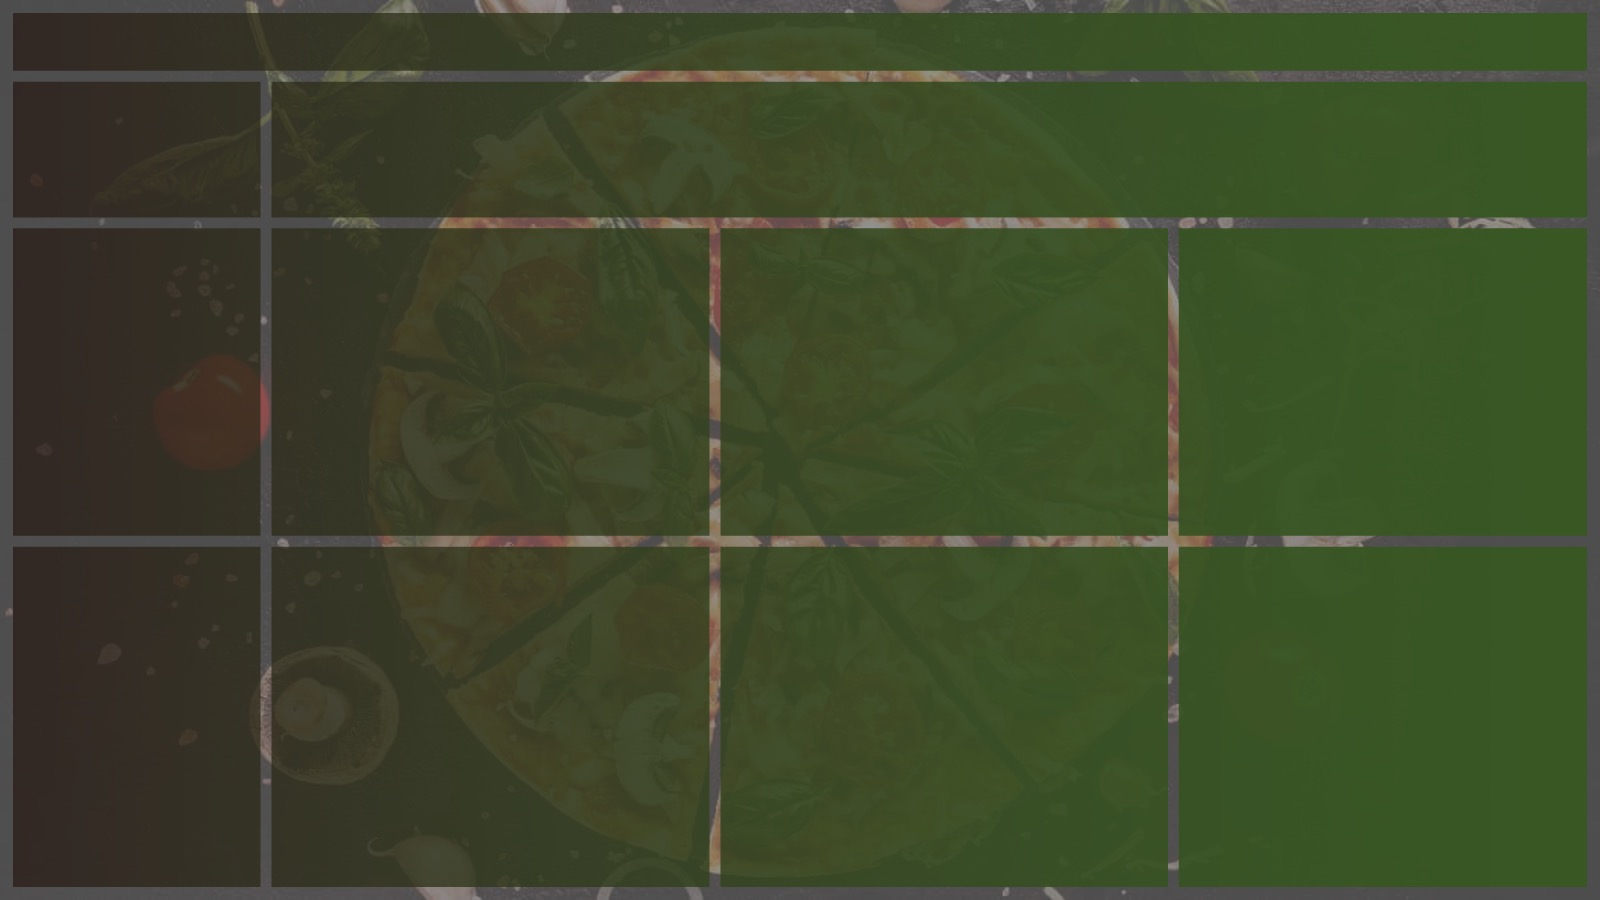

What the dashboard file says about the page in this screenshot:
{"tool":"tableau","page":{"name":"Second Page","canvas":[1600,900],"ordinal":1},"visuals":[{"type":"image","param":"/Users/minhle/Documents/Pizza Sales Project/Background Image/Slide2.jpeg","box":[8,8,1584,884]},{"type":"filter","title":"Top 5 Pizzas by Revenue","param":"[federated.0somklw0qe6syh1g5aqz908a7uoe].[none:order_date:qk]","box":[1317,25,245,55]},{"type":"filter","title":"Top 5 Pizzas by Revenue","param":"[federated.0somklw0qe6syh1g5aqz908a7uoe].[none:pizza_category:nk]","box":[1135,26,181,56]},{"type":"text","box":[678,30,246,31]},{"type":"image","param":"/Users/minhle/Documents/Pizza Sales Project/Pizza Sales Images/Denison_logo_athl","box":[45,33,44,40]},{"type":"image","param":"/Users/minhle/Documents/Pizza Sales Project/Pizza Sales Images/pizza-slice.png","box":[645,33,32,30]},{"type":"text","box":[92,37,110,34]},{"type":"text","box":[699,55,201,30]},{"type":"dashboard-object","box":[46,101,219,52]},{"type":"image","param":"/Users/minhle/Documents/Pizza Sales Project/Pizza Sales Images/profit-growth.png","box":[393,101,39,33]},{"type":"image","param":"/Users/minhle/Documents/Pizza Sales Project/Pizza Sales Images/delivery-man.png","box":[1151,101,49,37]},{"type":"image","param":"/Users/minhle/Documents/Pizza Sales Project/Pizza Sales Images/shipping-box.png","box":[650,103,36,33]},{"type":"image","param":"/Users/minhle/Documents/Pizza Sales Project/Pizza Sales Images/order (1).png","box":[1404,104,54,33]},{"type":"image","param":"/Users/minhle/Documents/Pizza Sales Project/Pizza Sales Images/order-delivery.pn","box":[903,105,35,30]},{"type":"worksheet","title":"KPI Banner","mark":"Automatic","box":[284,138,1275,78]},{"type":"dashboard-object","box":[46,162,220,52]},{"type":"worksheet","title":"Top 5 Pizzas by Quantity","mark":"Automatic","rows":["pizza_name"],"cols":["quantity"],"box":[729,241,421,285]},{"type":"text","box":[39,242,227,30]},{"type":"worksheet","title":"Total 5 Pizzas by Orders ","mark":"Automatic","rows":["pizza_name"],"cols":["Calculation_353251138626486273"],"box":[1175,242,387,285]},{"type":"worksheet","title":"Top 5 Pizzas by Revenue","mark":"Automatic","rows":["pizza_name"],"cols":["Calculation_353251138626011136"],"box":[293,244,409,281]},{"type":"text","box":[42,272,227,246]},{"type":"text","box":[39,550,230,30]},{"type":"worksheet","title":"Bottom 5 Pizzas by Quantity","mark":"Automatic","rows":["pizza_name"],"cols":["quantity"],"box":[729,550,420,320]},{"type":"worksheet","title":"Bottom 5 Pizzas by Orders","mark":"Automatic","rows":["pizza_name"],"cols":["Calculation_353251138626486273"],"box":[1175,550,382,320]},{"type":"worksheet","title":"Bottom 5 Pizzas by Revenue","mark":"Automatic","rows":["pizza_name"],"cols":["Calculation_353251138626011136"],"box":[291,552,414,315]},{"type":"text","box":[42,579,227,290]}]}

Visuals, with their boxes in screenshot pixels (x1, y1, x2, y2), scaled from the page's 1600x900 canvas onto the 1600x900 screenshot:
image: (left=8, top=8, right=1592, bottom=892)
"Top 5 Pizzas by Revenue" filter: (left=1317, top=25, right=1562, bottom=80)
"Top 5 Pizzas by Revenue" filter: (left=1135, top=26, right=1316, bottom=82)
text: (left=678, top=30, right=924, bottom=61)
image: (left=45, top=33, right=89, bottom=73)
image: (left=645, top=33, right=677, bottom=63)
text: (left=92, top=37, right=202, bottom=71)
text: (left=699, top=55, right=900, bottom=85)
dashboard-object: (left=46, top=101, right=265, bottom=153)
image: (left=393, top=101, right=432, bottom=134)
image: (left=1151, top=101, right=1200, bottom=138)
image: (left=650, top=103, right=686, bottom=136)
image: (left=1404, top=104, right=1458, bottom=137)
image: (left=903, top=105, right=938, bottom=135)
"KPI Banner" worksheet: (left=284, top=138, right=1559, bottom=216)
dashboard-object: (left=46, top=162, right=266, bottom=214)
"Top 5 Pizzas by Quantity" worksheet: (left=729, top=241, right=1150, bottom=526)
text: (left=39, top=242, right=266, bottom=272)
"Total 5 Pizzas by Orders " worksheet: (left=1175, top=242, right=1562, bottom=527)
"Top 5 Pizzas by Revenue" worksheet: (left=293, top=244, right=702, bottom=525)
text: (left=42, top=272, right=269, bottom=518)
text: (left=39, top=550, right=269, bottom=580)
"Bottom 5 Pizzas by Quantity" worksheet: (left=729, top=550, right=1149, bottom=870)
"Bottom 5 Pizzas by Orders" worksheet: (left=1175, top=550, right=1557, bottom=870)
"Bottom 5 Pizzas by Revenue" worksheet: (left=291, top=552, right=705, bottom=867)
text: (left=42, top=579, right=269, bottom=869)
